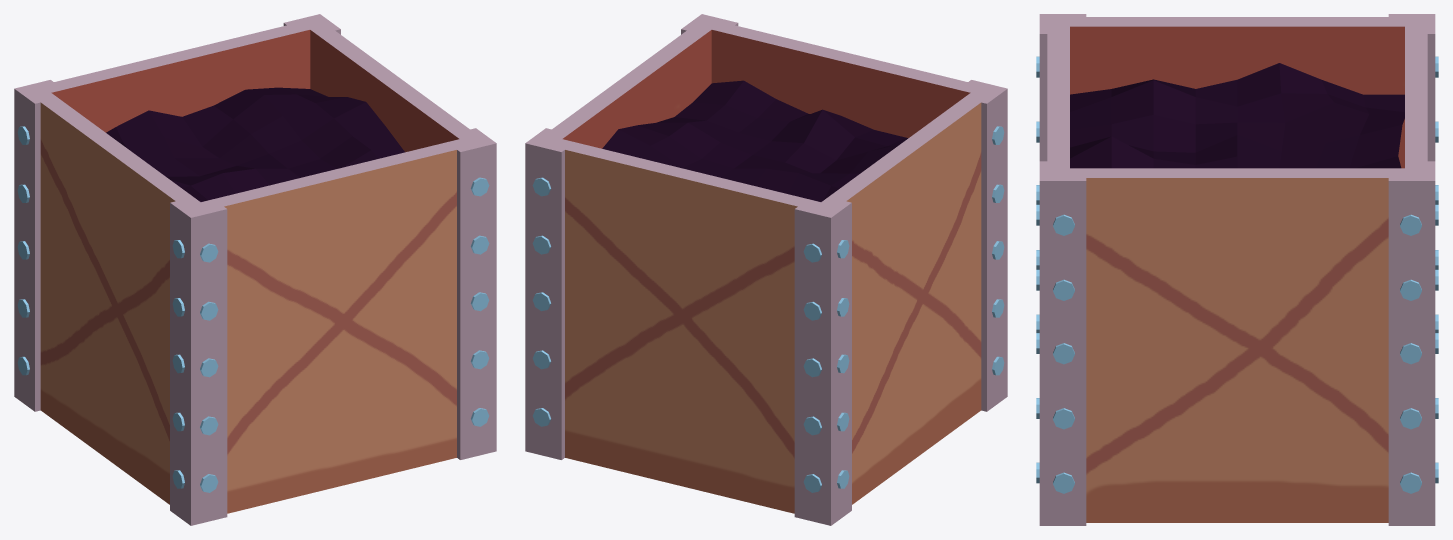
File: coalbox (1).glb
3 views of the same model, side by side, from view 1: azimuth 30°, elevation 25°; view 2: azimuth 150°, elevation 25°; view 3: azimuth 270°, elevation 25° (orthographic). The views are drawn at different scales.
Parts seen in each view (by area): view 1: Cube, Plane, Cylinder.001; view 2: Cube, Plane, Cylinder.001; view 3: Cube, Plane, Cylinder.001.
Part boxes in pixels (x1,y1,x2,y2): Cube: (14, 14, 496, 525); Plane: (106, 87, 404, 201); Cylinder.001: (17, 126, 489, 492); Cube: (525, 14, 1007, 525); Plane: (602, 80, 908, 201); Cylinder.001: (532, 126, 1004, 492); Cube: (1039, 14, 1435, 525); Plane: (1070, 63, 1404, 168); Cylinder.001: (1036, 56, 1438, 493).
Bounding box in the file's own units: 1.58 × 1.5 × 1.59.
3 materials, 1 textured.
